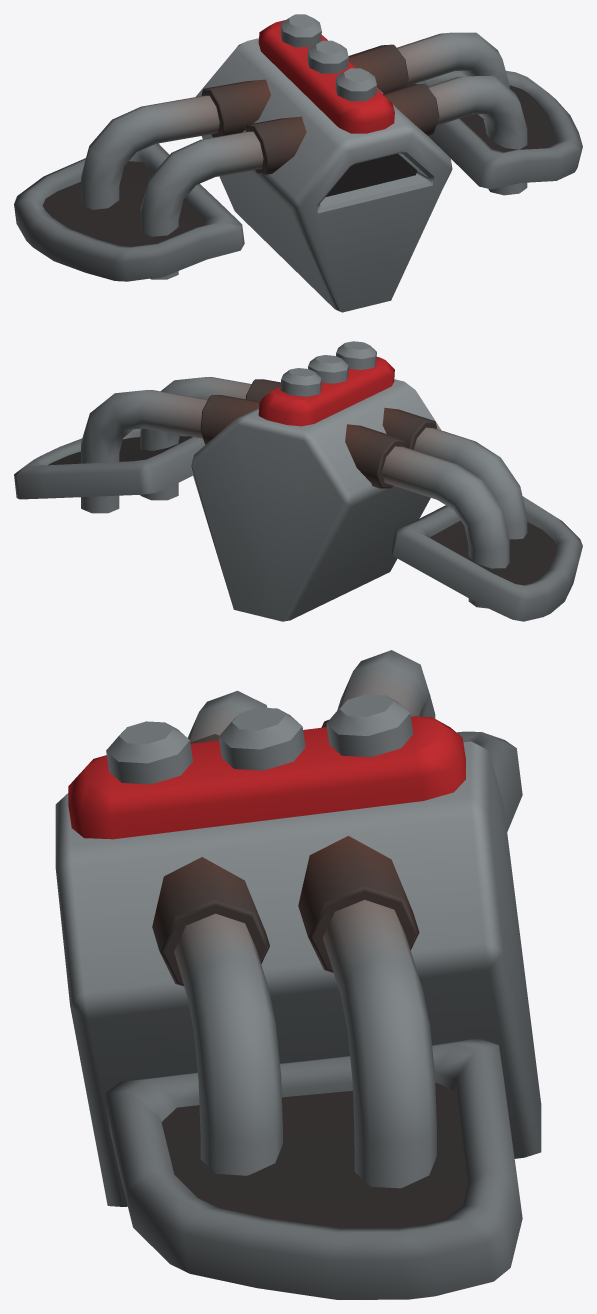
The model's file is Car_03_Engine.fbx.
The picture shows the model from 3 angles, top to bottom: view 1: azimuth 30°, elevation 25°; view 2: azimuth 150°, elevation 25°; view 3: azimuth 270°, elevation 25°; orthographic projection. The views are drawn at different scales.
Parts seen in each view (by area): view 1: Car_03_Engine; view 2: Car_03_Engine; view 3: Car_03_Engine.
Part boxes in pixels (x1,y1,x2,y2): Car_03_Engine: [14, 14, 582, 312]; Car_03_Engine: [14, 341, 582, 621]; Car_03_Engine: [55, 650, 541, 1299].
Bounding box in the file's own units: 129 × 51.4 × 56.02.
